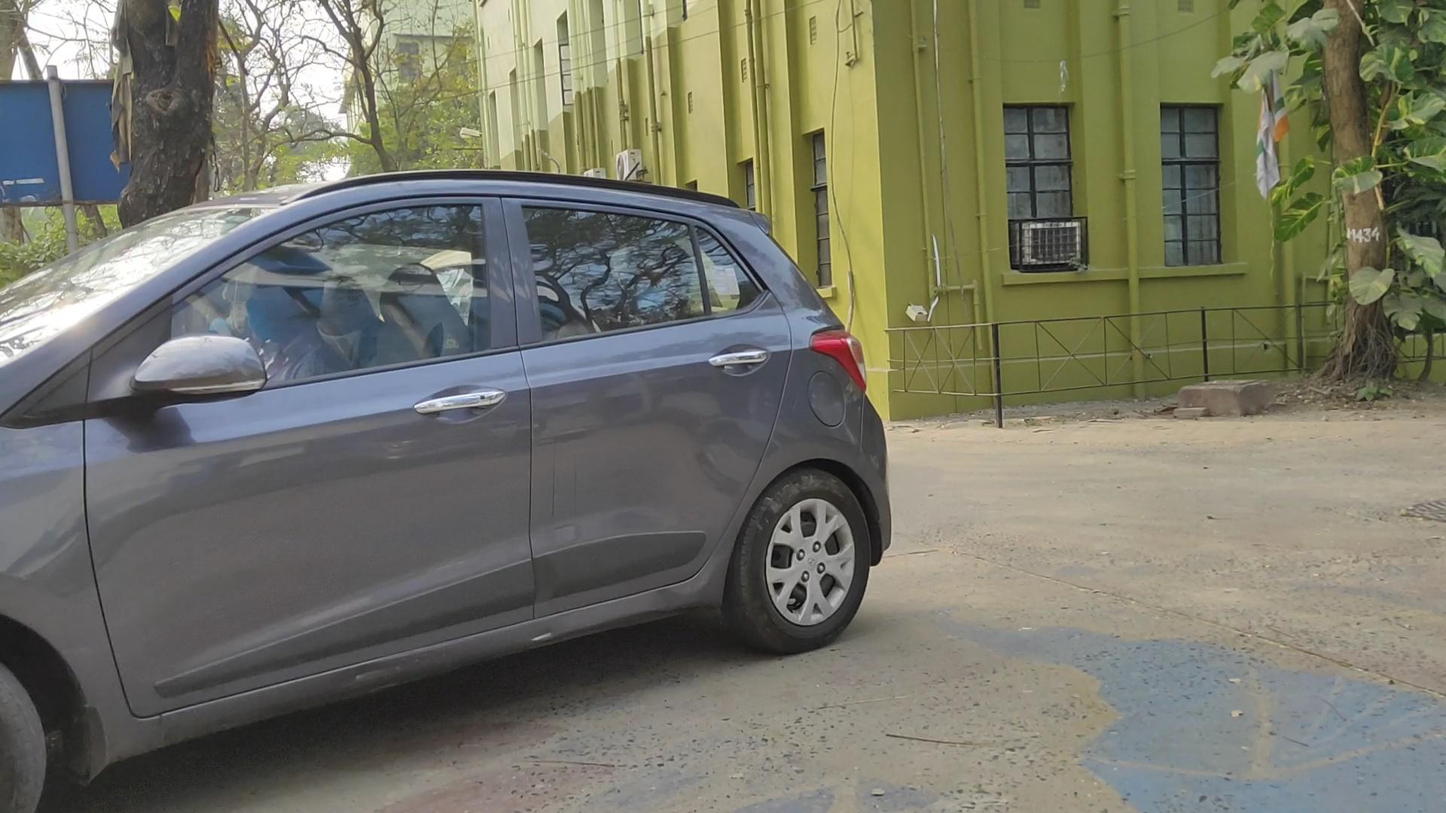car: (2, 166, 892, 813)
